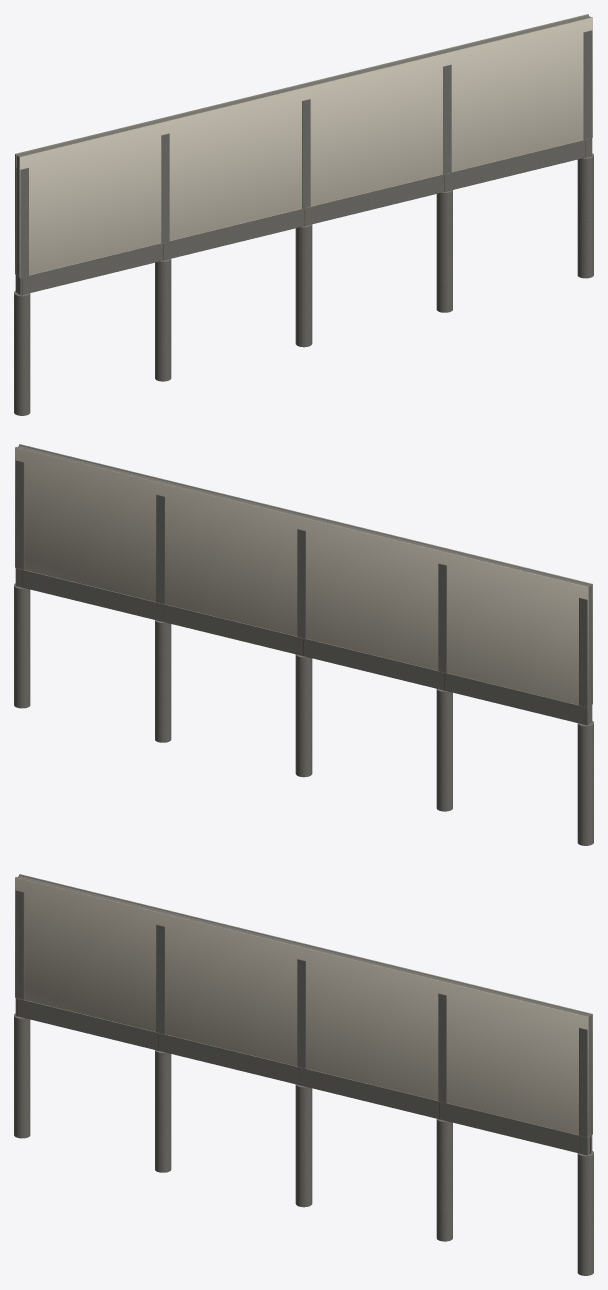
The model's file is KIT-ALV-05.glb.
3 renders of one model, top to bottom at view 1: azimuth 30°, elevation 25°; view 2: azimuth 150°, elevation 25°; view 3: azimuth 330°, elevation 25°, orthographic.
Parts seen in each view (by area): view 1: KIT-ALV-05_pinturaB, Viga baldrame, Broca 3, Broca 1, Broca 5, Broca 2, Broca 4, Cinta de amarração, KIT-ALV-05_rebocoA, Pilarete 1, Pilarete 5, Pilarete 4 (+3 smaller); view 2: KIT-ALV-05_pinturaA, Viga baldrame, Broca 3, Broca 1, Broca 5, Broca 2, Broca 4, Cinta de amarração, KIT-ALV-05_rebocoB, Pilarete 1, Pilarete 5, Pilarete 4 (+3 smaller); view 3: KIT-ALV-05_pinturaB, Viga baldrame, Broca 3, Broca 5, Broca 1, Broca 4, Broca 2, Cinta de amarração, KIT-ALV-05_rebocoA, Pilarete 5, Pilarete 1, Pilarete 2 (+3 smaller).
Boxes of the visible parts, bbox=[...] form: KIT-ALV-05_pinturaB: bbox=[19, 17, 592, 277]; Viga baldrame: bbox=[15, 138, 592, 295]; Broca 3: bbox=[295, 224, 312, 347]; Broca 1: bbox=[14, 291, 30, 415]; Broca 5: bbox=[577, 153, 593, 278]; Broca 2: bbox=[155, 259, 171, 381]; Broca 4: bbox=[436, 190, 452, 312]; Cinta de amarração: bbox=[16, 15, 590, 168]; KIT-ALV-05_rebocoA: bbox=[15, 14, 588, 274]; Pilarete 1: bbox=[16, 167, 28, 277]; Pilarete 5: bbox=[583, 30, 592, 139]; Pilarete 4: bbox=[443, 64, 451, 174]; KIT-ALV-05_pinturaA: bbox=[15, 447, 588, 707]; Viga baldrame: bbox=[15, 568, 592, 725]; Broca 3: bbox=[295, 654, 312, 777]; Broca 1: bbox=[577, 721, 593, 845]; Broca 5: bbox=[14, 583, 30, 708]; Broca 2: bbox=[436, 689, 452, 811]; Broca 4: bbox=[155, 620, 171, 742]; Cinta de amarração: bbox=[17, 445, 591, 598]; KIT-ALV-05_rebocoB: bbox=[19, 444, 592, 704]; Pilarete 1: bbox=[579, 597, 591, 707]; Pilarete 5: bbox=[15, 460, 24, 569]; Pilarete 4: bbox=[156, 494, 164, 604]; KIT-ALV-05_pinturaB: bbox=[15, 877, 588, 1137]; Viga baldrame: bbox=[15, 998, 592, 1155]; Broca 3: bbox=[295, 1084, 312, 1207]; Broca 5: bbox=[577, 1151, 593, 1275]; Broca 1: bbox=[14, 1013, 30, 1138]; Broca 4: bbox=[436, 1119, 452, 1241]; Broca 2: bbox=[155, 1050, 171, 1172]; Cinta de amarração: bbox=[17, 875, 591, 1028]; KIT-ALV-05_rebocoA: bbox=[19, 874, 592, 1134]; Pilarete 5: bbox=[579, 1027, 591, 1137]; Pilarete 1: bbox=[15, 890, 24, 999]; Pilarete 2: bbox=[156, 924, 164, 1034].
Bounding box in the file's own units: 10.1 × 4.31 × 0.25.
Materials: 6 (5 with a texture image).
